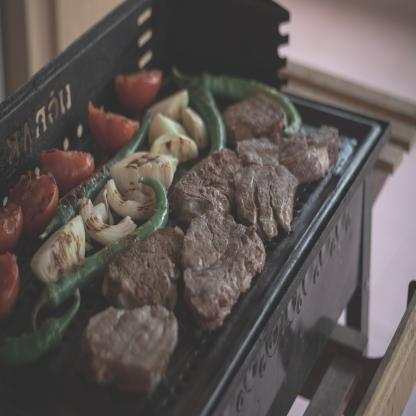Carne: (182, 204, 271, 327), (82, 303, 181, 389), (101, 224, 189, 310), (168, 149, 252, 221), (240, 124, 334, 177), (235, 163, 298, 236)
